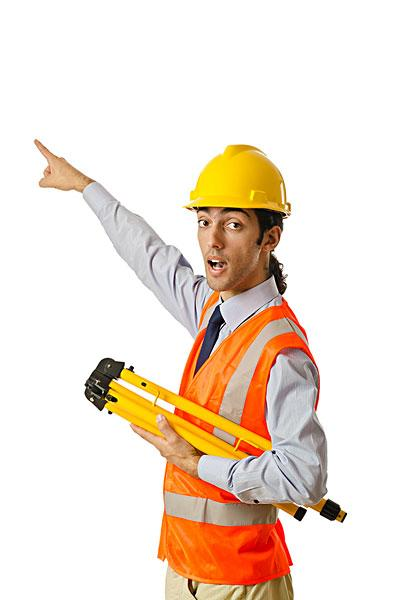helmet: (185, 141, 294, 218)
